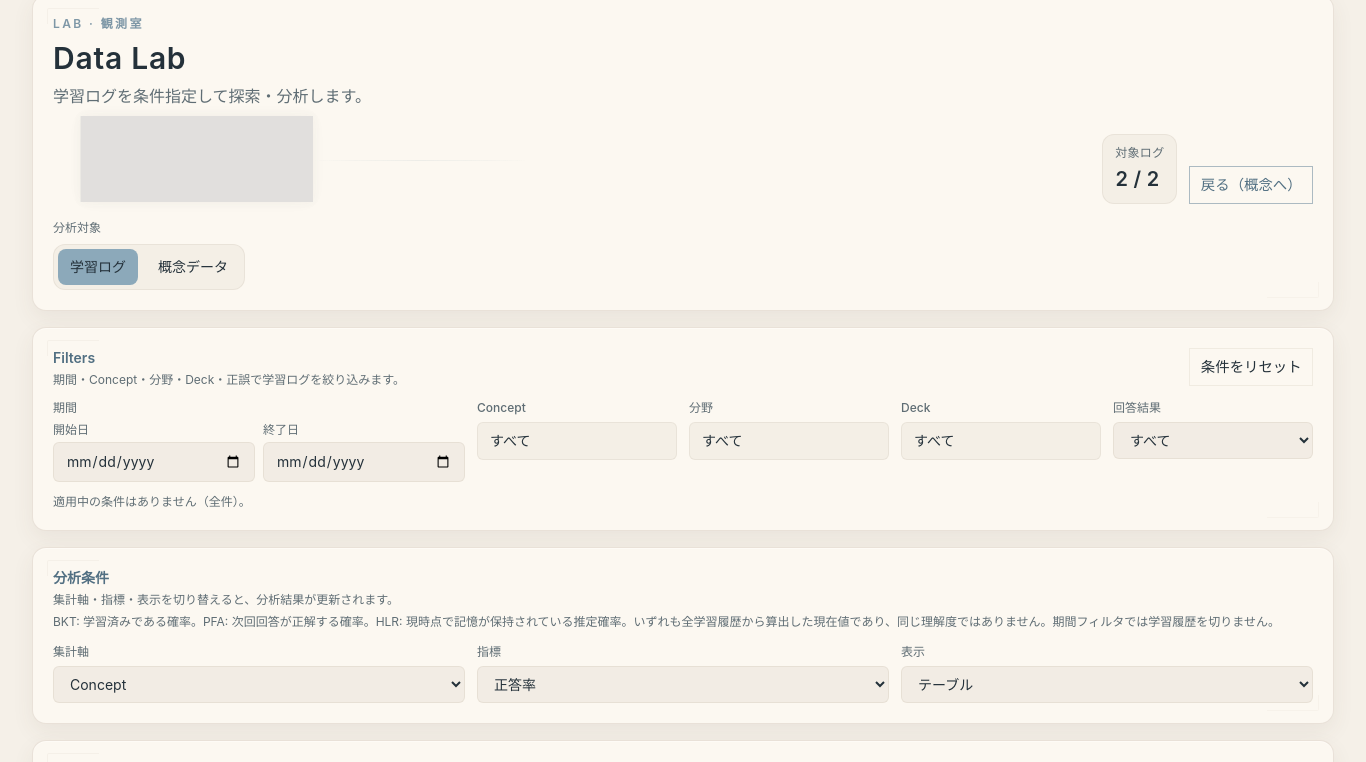
Test: DataLabView (#89 / #90) › フィルタ結果0件は通常の空状態と区別し、リセットで全件に戻る
Select "誤答のみ" in the dropdown labelled "回答結果" at point(1213, 440), box x1=1113 y1=422 x2=1313 y2=459
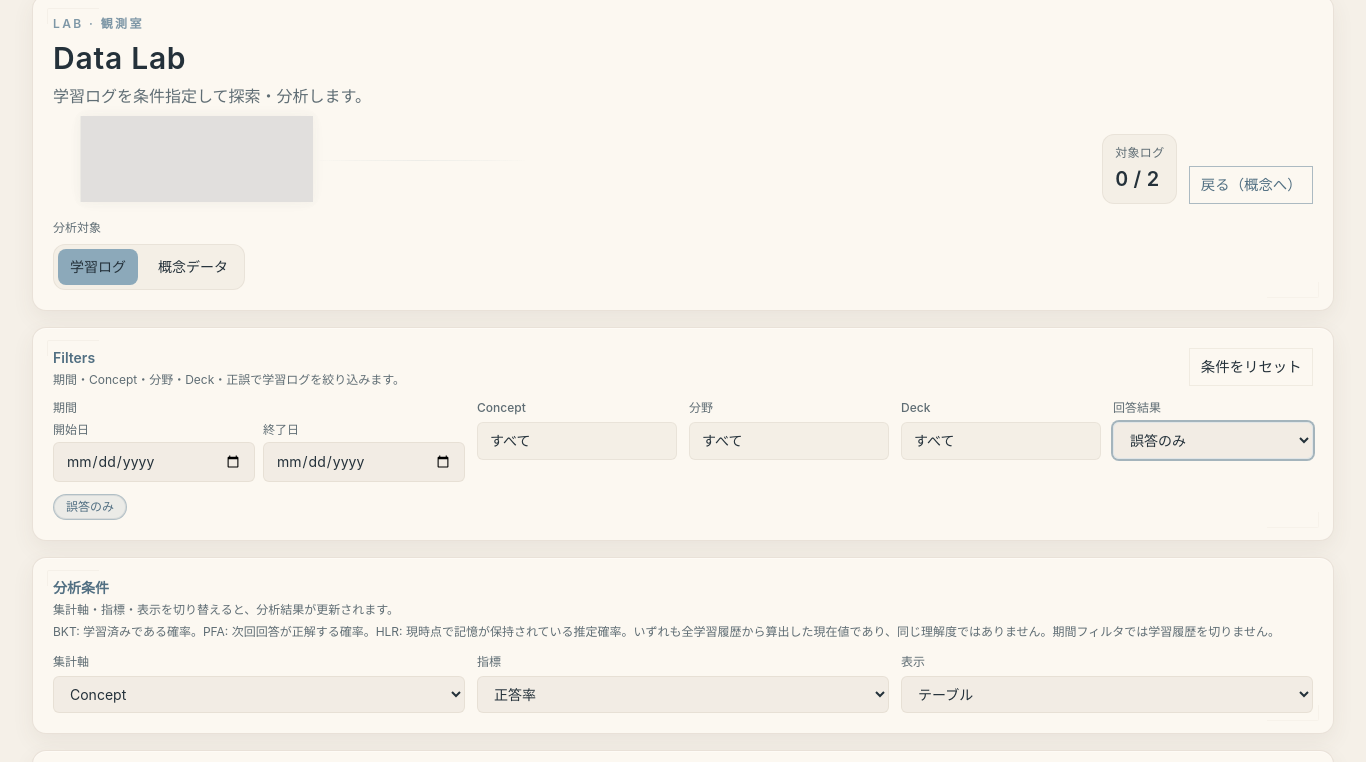
Expected: the text with test id "data-lab-log-count" reads "0 / 2", x1=1115 y1=167 x2=1160 y2=191
Expected: the element with test id "data-lab-active-filters" reads "誤答のみ", x1=66 y1=499 x2=114 y2=514
Click the button "条件をリセット" at point(1251, 367), box x1=1190 y1=348 x2=1313 y2=386
(page scrolled)
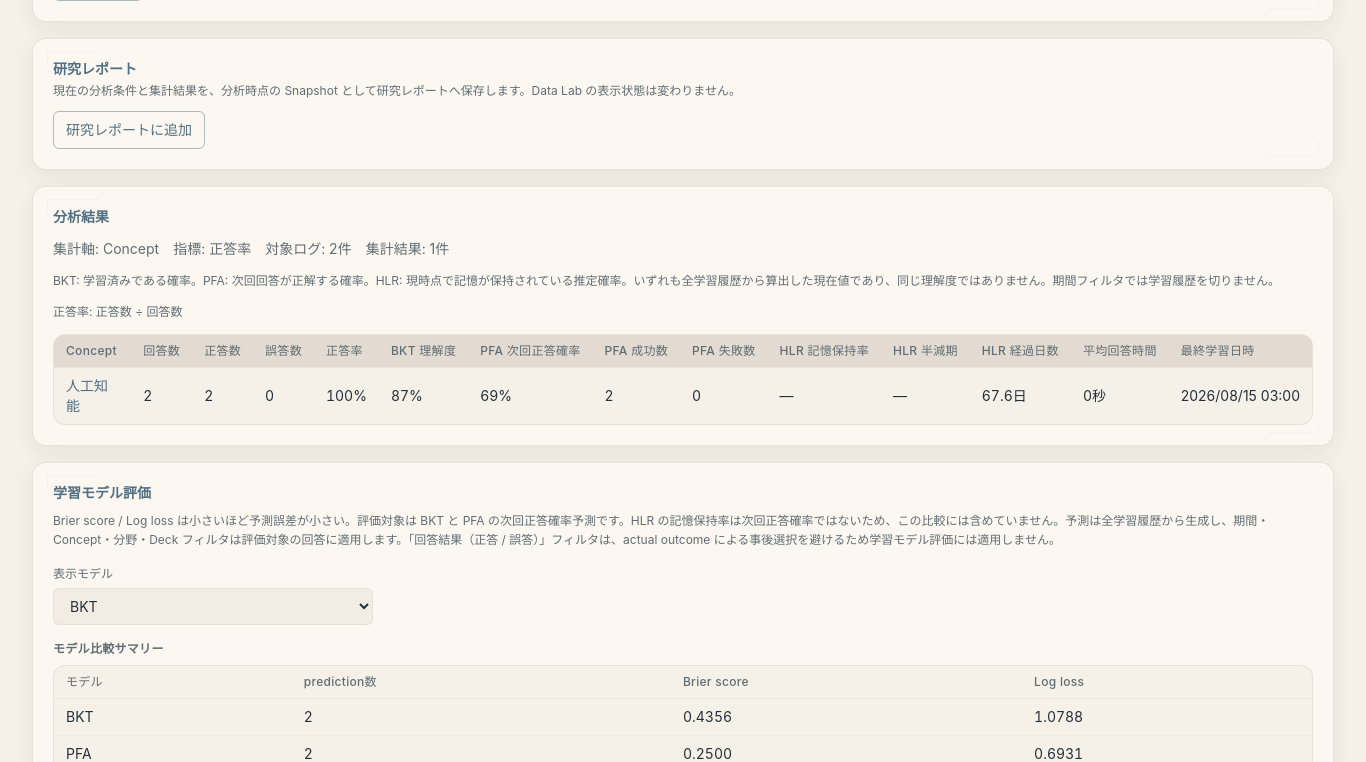
Expected: the table with test id "data-lab-table" is shown, x1=54 y1=334 x2=1312 y2=424
